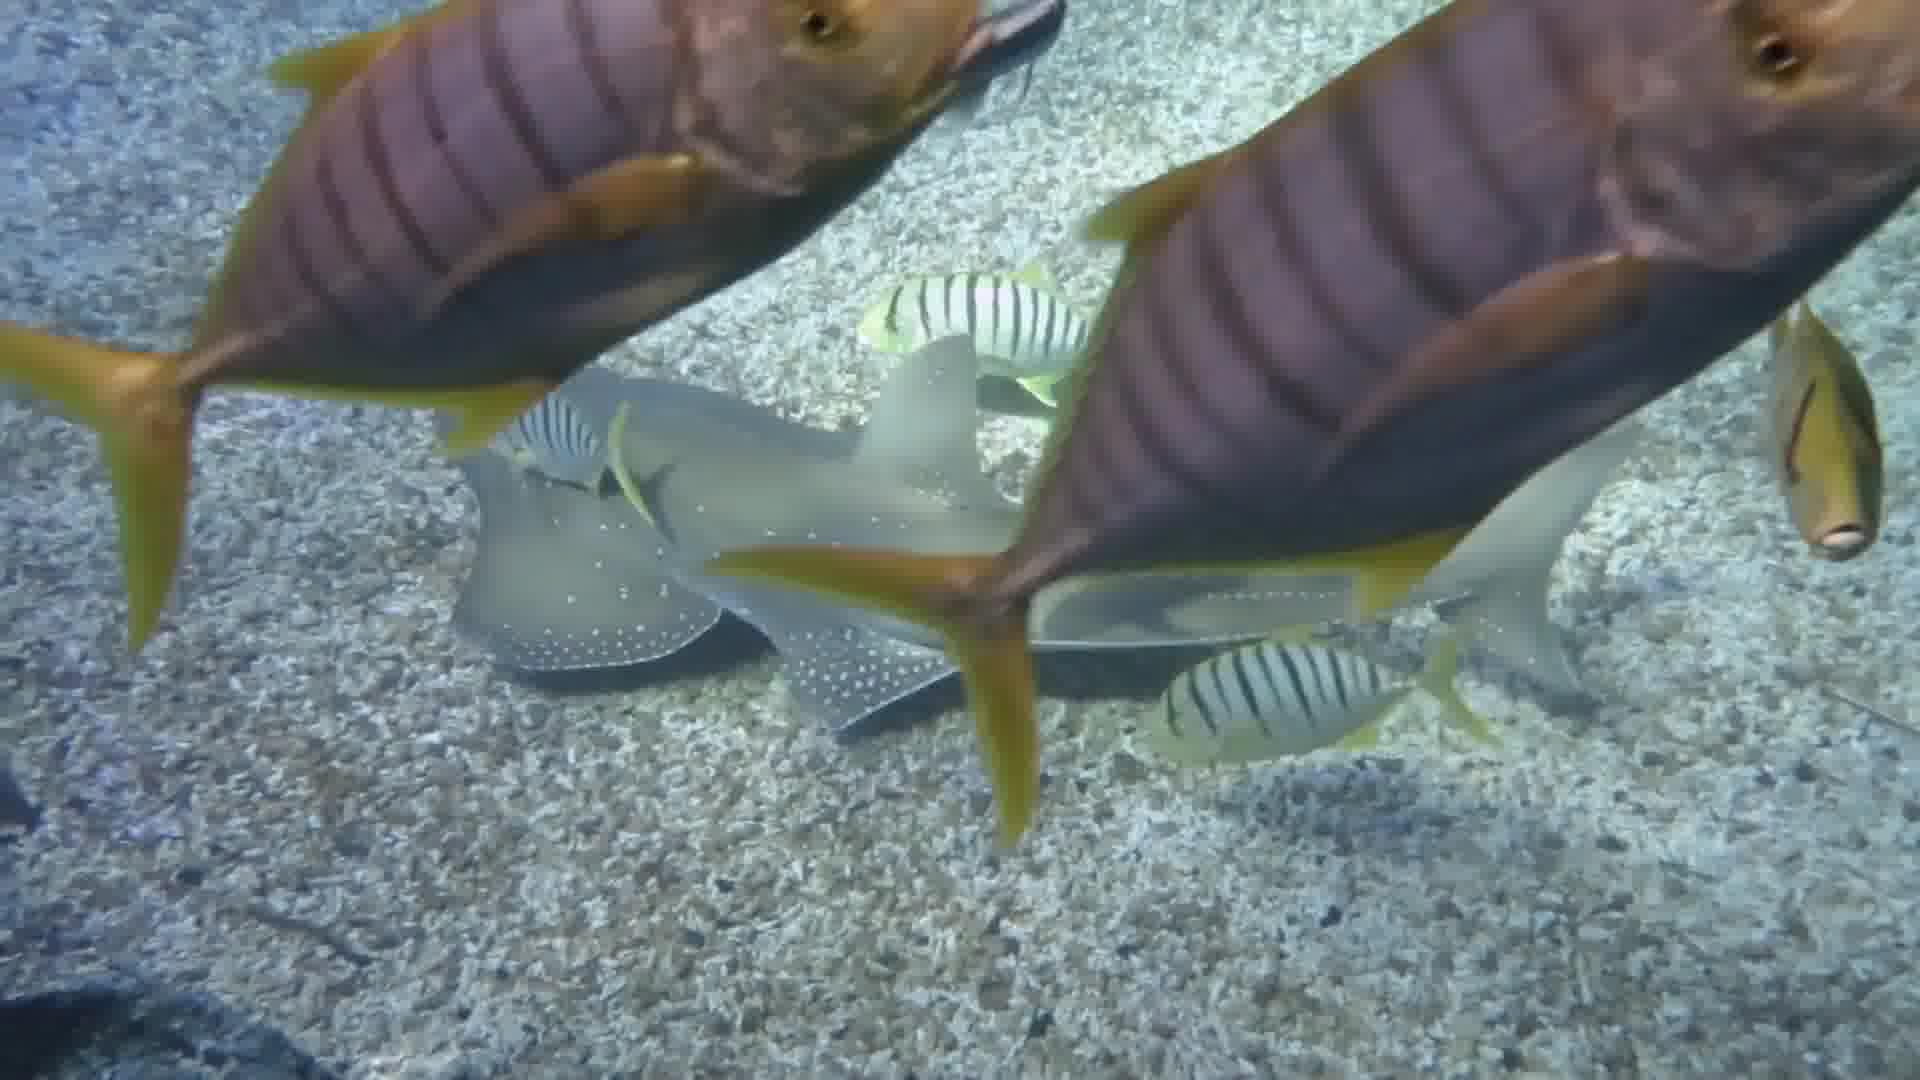Rhychobatus djiddensis: (454, 328, 1004, 738)
